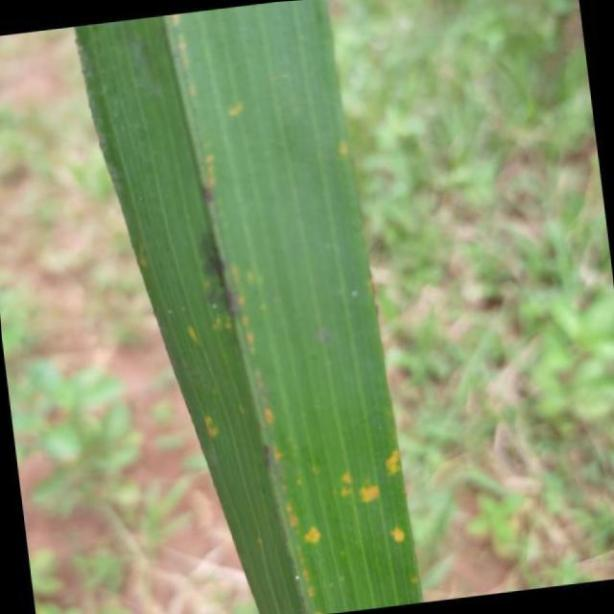Kalium: (70, 0, 426, 614)
